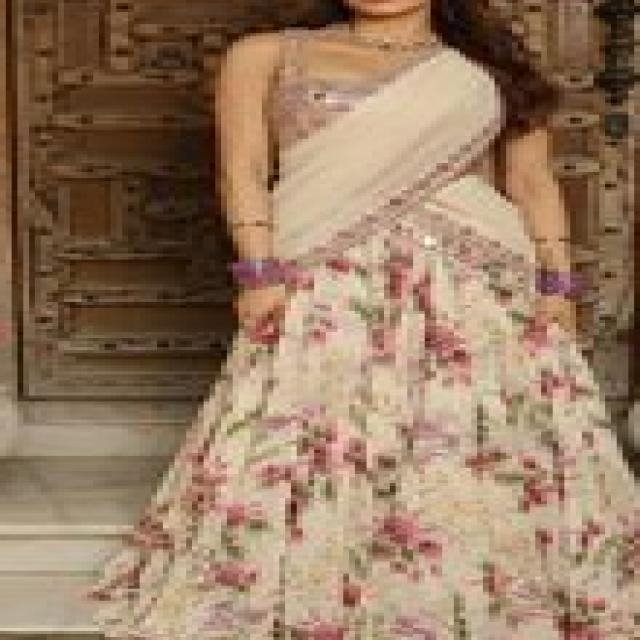Saree: (81, 24, 640, 640)
